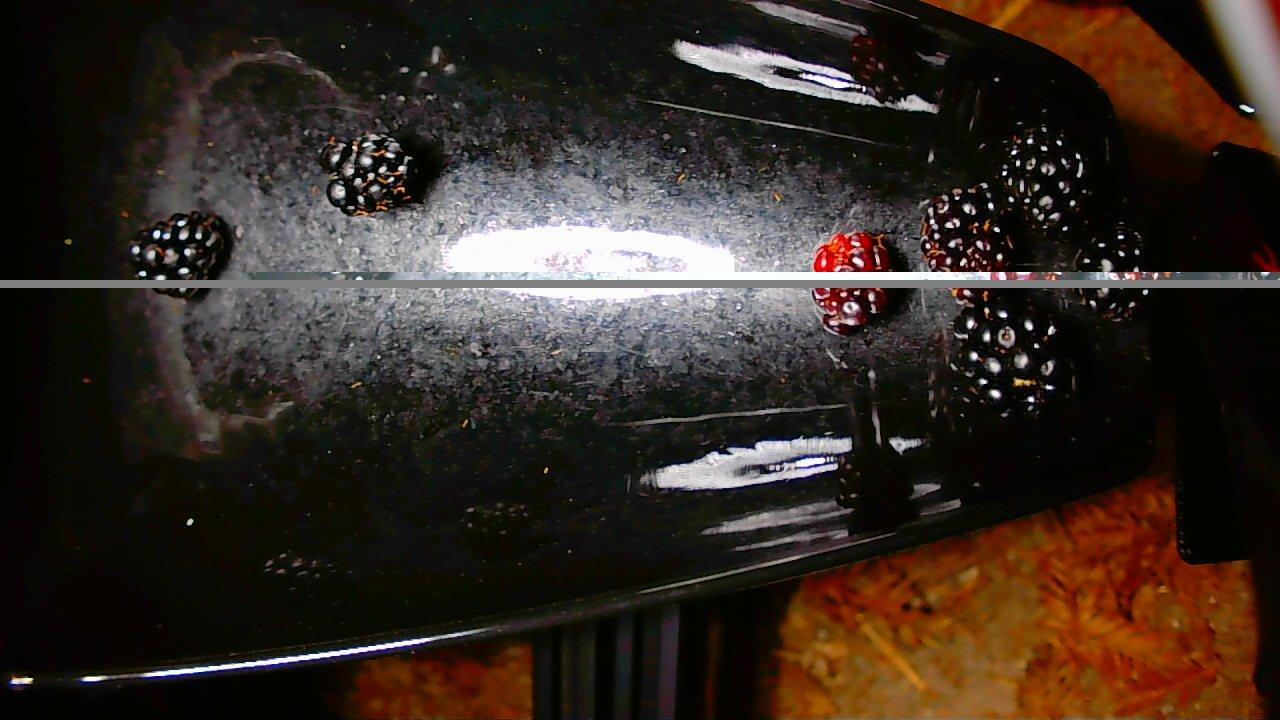berry: (950, 296, 1069, 417), (999, 126, 1096, 235), (921, 183, 1012, 271), (319, 133, 417, 214), (128, 211, 230, 279), (1075, 223, 1145, 277), (812, 287, 890, 334), (815, 232, 893, 271), (1079, 286, 1147, 319), (155, 287, 200, 298), (953, 289, 987, 303)
